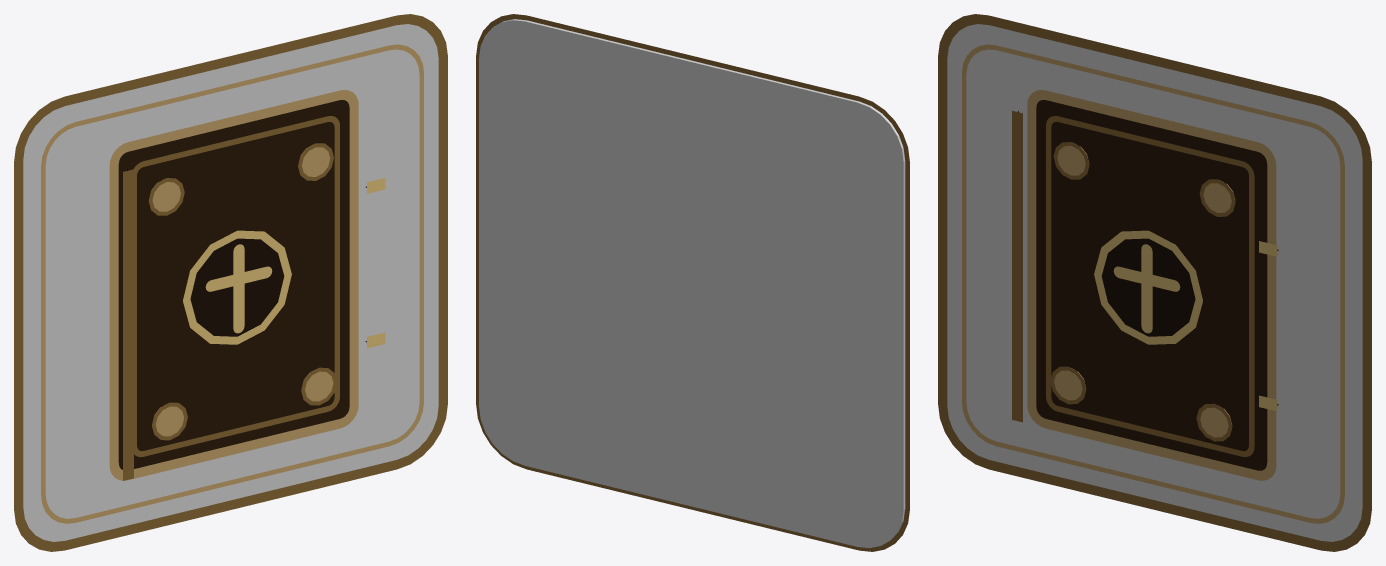
Rendered from obj-evangelie.glb.
3 renders of one model, left to right at view 1: azimuth 30°, elevation 25°; view 2: azimuth 150°, elevation 25°; view 3: azimuth 330°, elevation 25°, orthographic.
Visible parts, largest first — view 1: obj-evangelie; view 2: obj-evangelie; view 3: obj-evangelie.
Part boxes in pixels (left/top/right/bottom): obj-evangelie: left=14, top=14, right=447, bottom=551; obj-evangelie: left=476, top=14, right=909, bottom=551; obj-evangelie: left=938, top=14, right=1371, bottom=551.
Size of the model in its own units: 0.3917 by 0.3917 by 0.0301.
